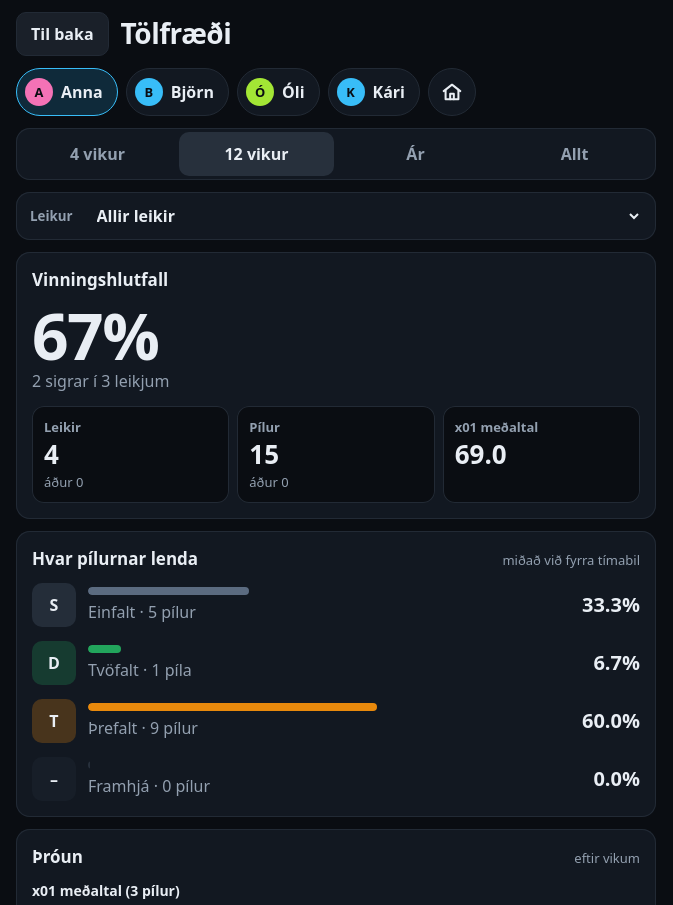
Scenario: StatsScreen › says when a player has no games in the period
The image size is (673, 905).
Expected: the element "Vinningshlutfall" is shown, [16,252,656,519]
Click the button "K Kári". click: click(374, 92)
box: [328,68,420,116]
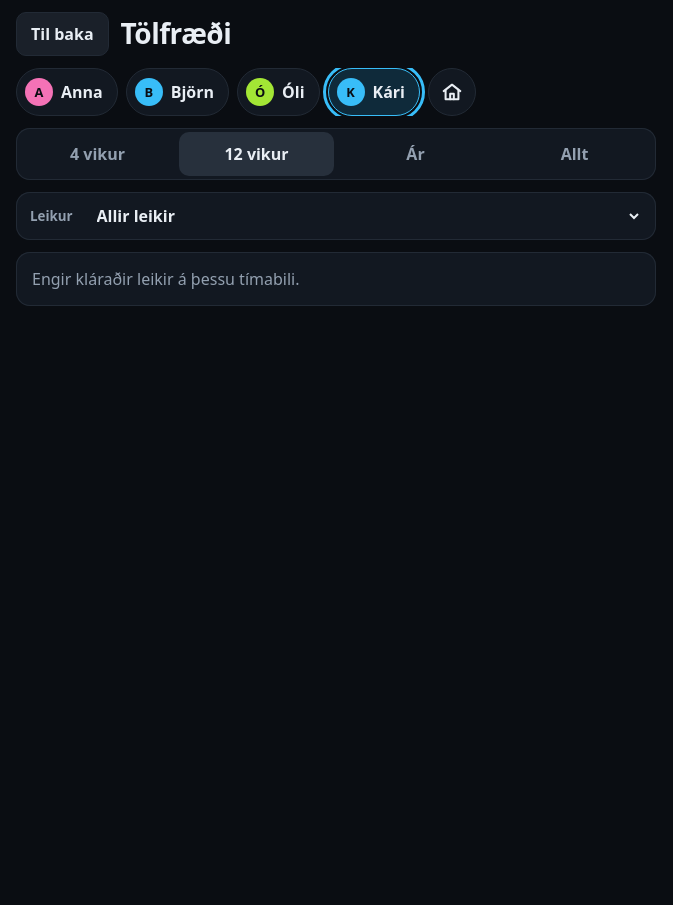
Now the text "Engir kláraðir leikir á þessu tímabili." is shown, box [16,252,656,306]
